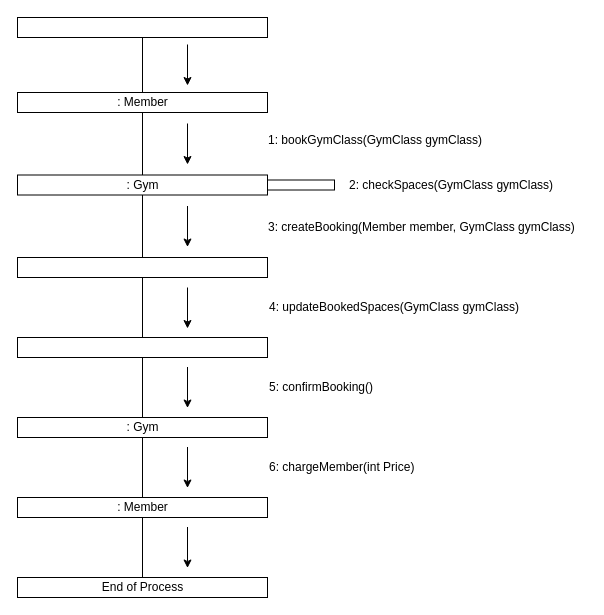
Image size: 604x615. Some labels were removed from this diagram. Here are the shapes that lost their labels. From the top down, the centre of each, then its label:
At pixel 142 27: "Initialization".
At pixel 142 267: ": Booking".
At pixel 142 347: ": Class".
